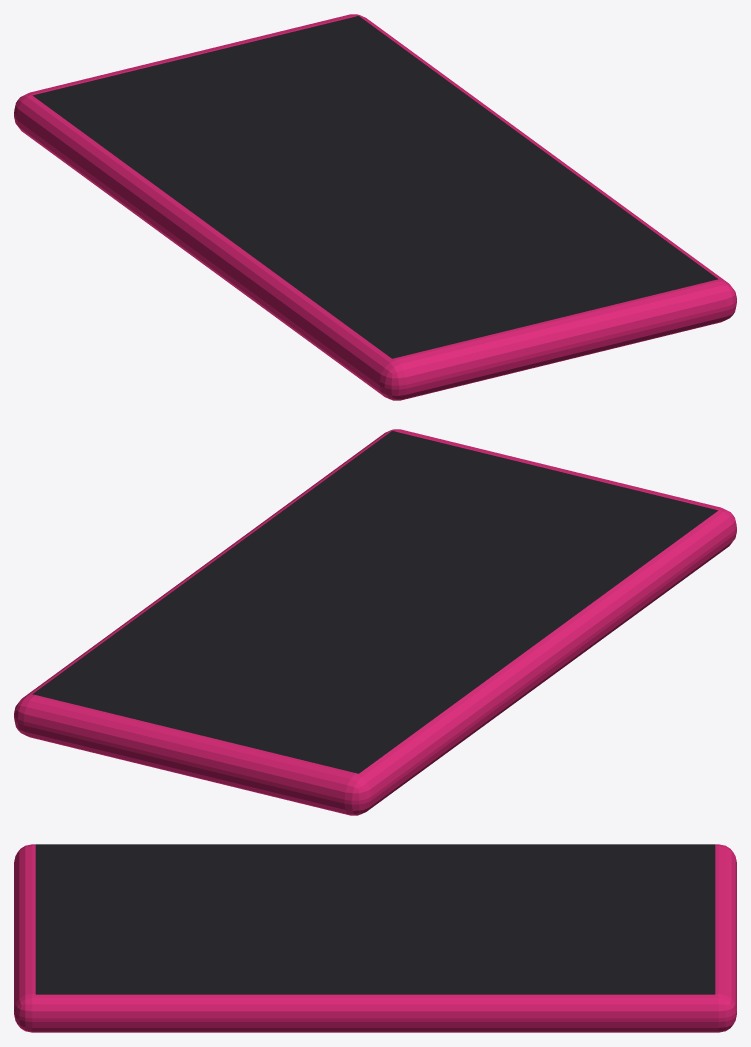
Rendered from oppo-reno-model-289-budget-2021.glb.
The picture shows the model from 3 angles, top to bottom: view 1: azimuth 30°, elevation 25°; view 2: azimuth 150°, elevation 25°; view 3: azimuth 270°, elevation 25°; orthographic projection. The views are drawn at different scales.
Visible parts, largest first — view 1: Phone_Screen, Phone_Body; view 2: Phone_Screen, Phone_Body; view 3: Phone_Screen, Phone_Body.
Boxes of the visible parts, x1=… form: Phone_Screen: x1=32, y1=16, x2=718, y2=358; Phone_Body: x1=14, y1=14, x2=736, y2=400; Phone_Screen: x1=32, y1=431, x2=718, y2=773; Phone_Body: x1=14, y1=429, x2=736, y2=815; Phone_Screen: x1=35, y1=844, x2=715, y2=994; Phone_Body: x1=14, y1=844, x2=736, y2=1032.
Size of the model in its own units: 0.0793 by 0.0085 by 0.1482.
